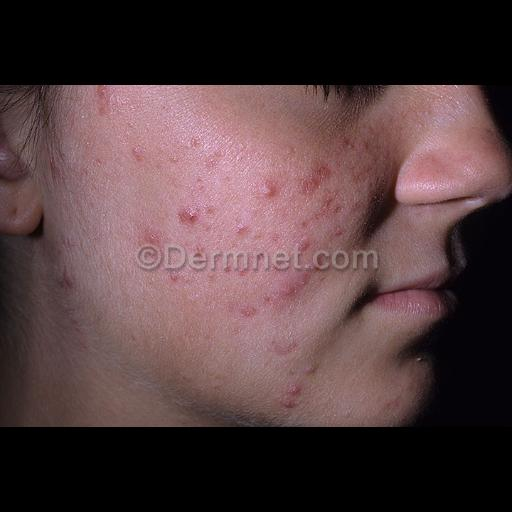Skin_Lesion: (304, 85, 394, 117), (280, 262, 322, 302), (151, 85, 185, 119), (276, 374, 306, 412), (270, 324, 298, 360), (137, 219, 165, 249), (304, 161, 330, 193), (256, 170, 280, 202), (363, 190, 389, 218), (176, 199, 200, 229), (289, 234, 315, 258), (237, 297, 259, 325), (58, 268, 78, 296), (183, 129, 205, 153), (204, 154, 226, 178), (91, 86, 117, 102), (168, 271, 188, 291), (130, 141, 150, 161), (202, 268, 220, 290), (234, 217, 250, 237), (236, 266, 250, 284)
